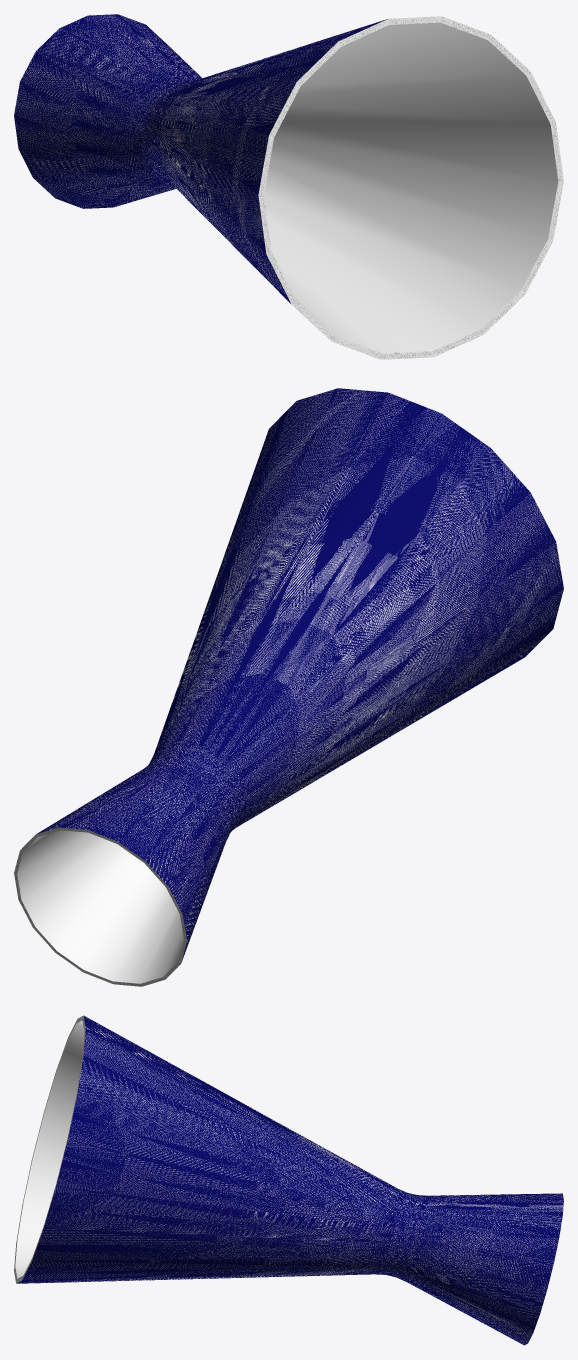
Rendered from original-6.obj.
The picture shows the model from 3 angles, top to bottom: view 1: azimuth 30°, elevation 25°; view 2: azimuth 150°, elevation 25°; view 3: azimuth 270°, elevation 25°; orthographic projection. The views are drawn at different scales.
Visible parts, largest first — view 1: Tube001_1/Tube001/mesh6/mesh6-geometry#mesh6-geometry; view 2: Tube001_1/Tube001/mesh6/mesh6-geometry#mesh6-geometry; view 3: Tube001_1/Tube001/mesh6/mesh6-geometry#mesh6-geometry.
Boxes of the visible parts, <box> form: Tube001_1/Tube001/mesh6/mesh6-geometry#mesh6-geometry: <box>14,14,563,359</box>; Tube001_1/Tube001/mesh6/mesh6-geometry#mesh6-geometry: <box>14,388,563,986</box>; Tube001_1/Tube001/mesh6/mesh6-geometry#mesh6-geometry: <box>14,1015,563,1345</box>.
Bounding box in the file's own units: 0.2475 × 0.31 × 0.4981.
